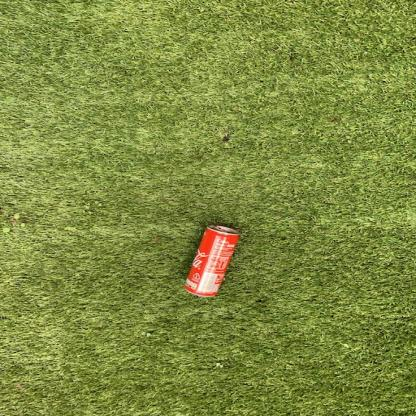trash: (178, 222, 240, 302)
